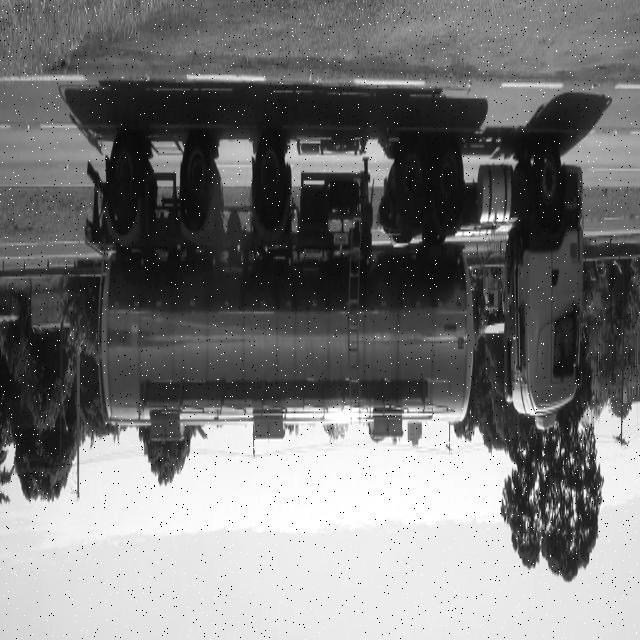-axle: (107, 124, 141, 232), (180, 128, 216, 226), (429, 134, 464, 229), (254, 130, 288, 222), (392, 134, 424, 222), (533, 134, 565, 222)
